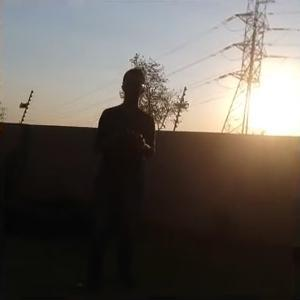follow: (71, 61, 159, 290)
